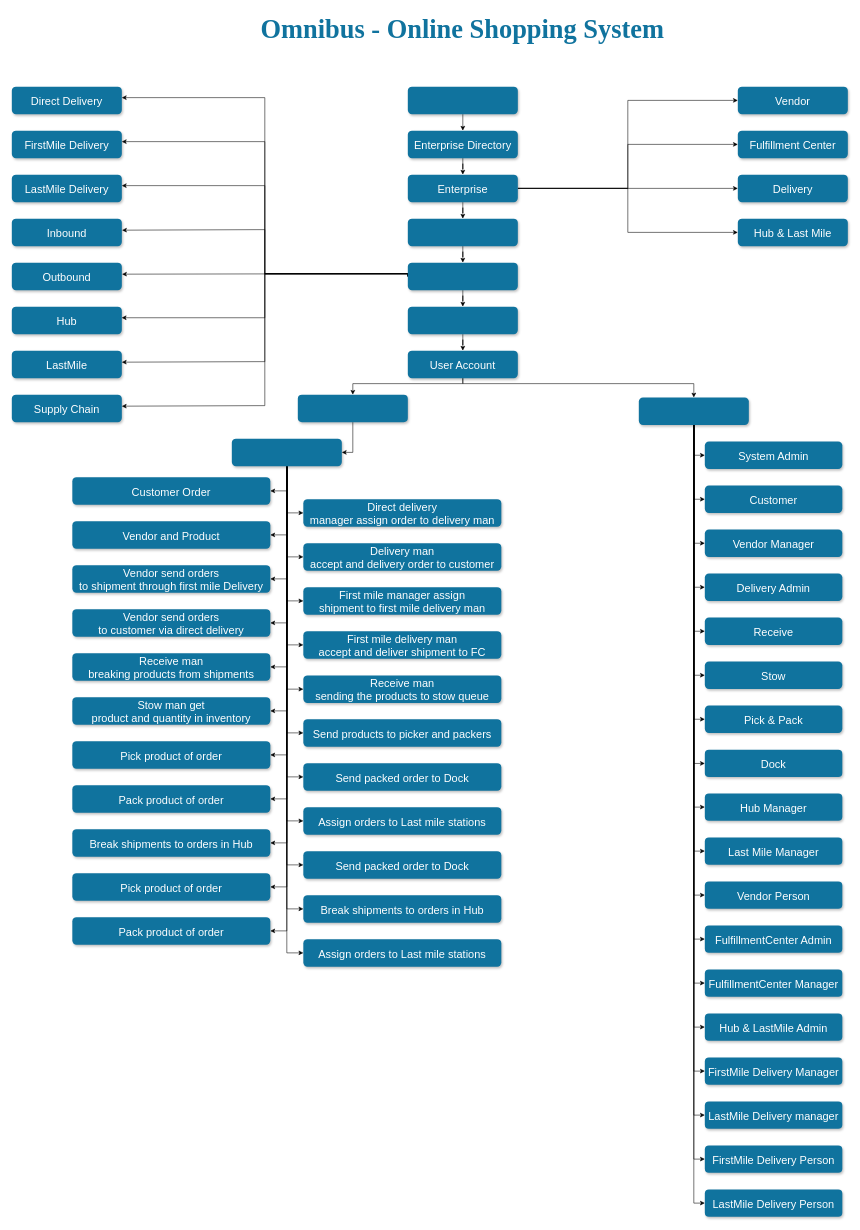
This 860x1230 diagram has some shape labels left out. Here are the shapes that lost their labels. From the top down, the centre of each, then its label:
the point at 463,101: Ecosystem
the point at 463,233: Organization Directory
the point at 463,277: Organization
the point at 463,321: UserAccount Directory
the point at 353,409: WorkQueue
the point at 694,412: Roles
the point at 287,453: WorkRequest
